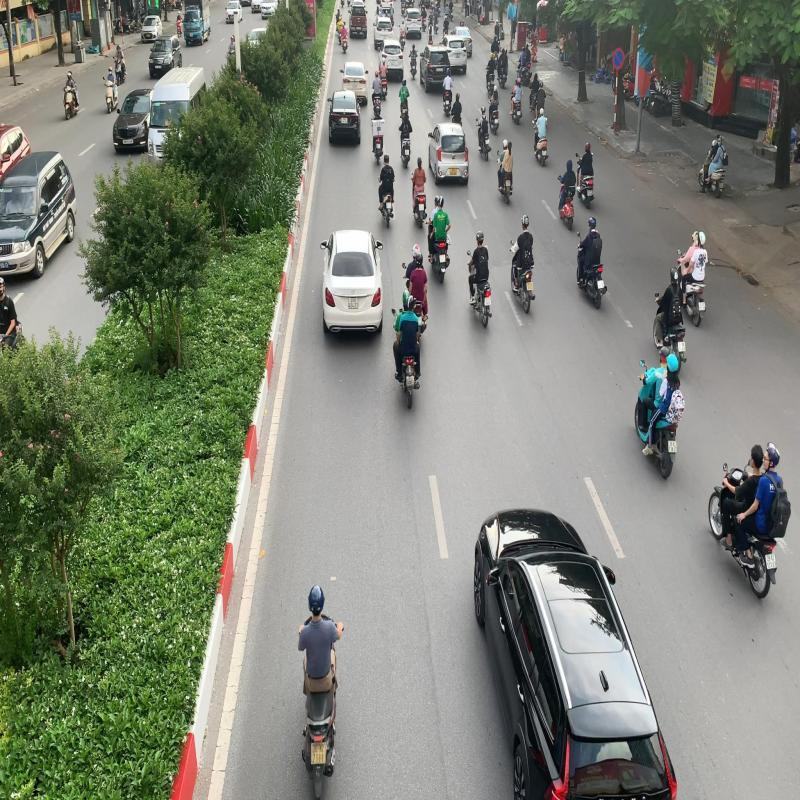helmet: (306, 582, 326, 614), (764, 441, 780, 470)
licenseplate: (309, 741, 328, 766), (764, 554, 776, 570)
motorcyclist: (706, 436, 792, 602), (295, 579, 346, 800)
nohelmet: (749, 442, 763, 469)
